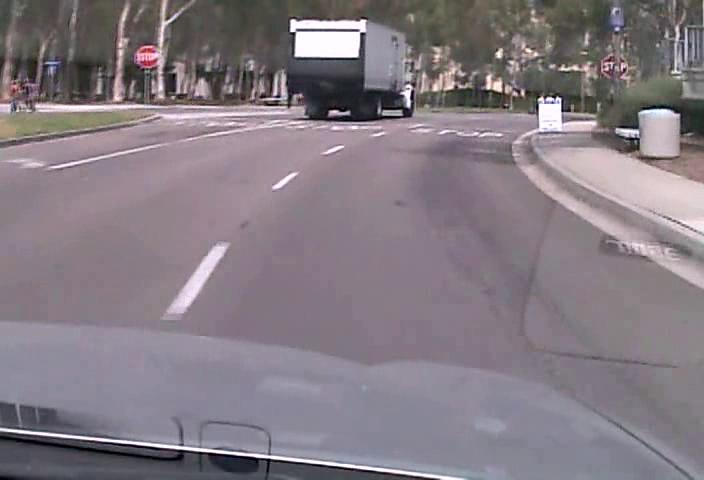stop: (134, 45, 158, 69)
